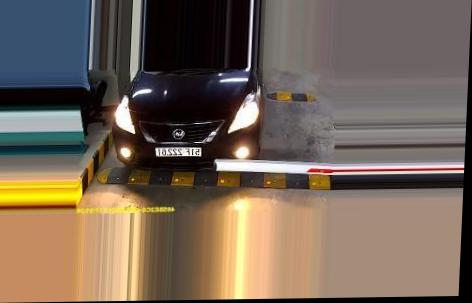License_Plate: (156, 145, 201, 160)
